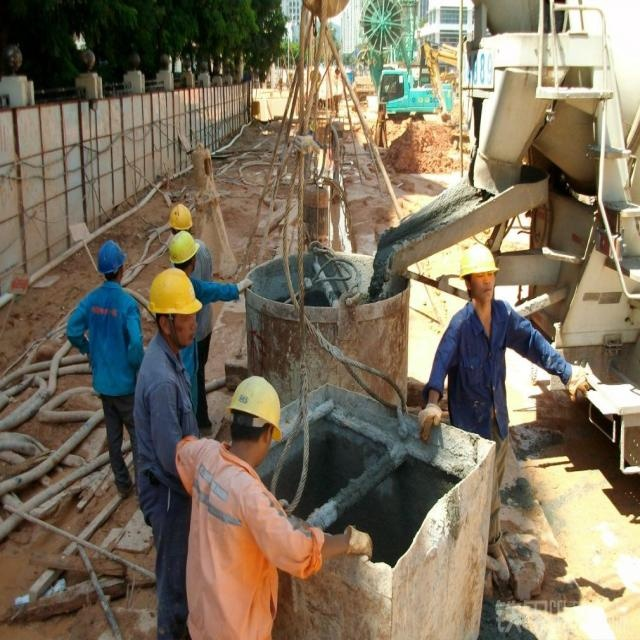Con_Casco: (230, 377, 283, 459), (151, 267, 203, 345), (460, 243, 501, 298), (98, 240, 125, 281)
Sin_Chaleco: (452, 302, 508, 430), (89, 290, 134, 394)
